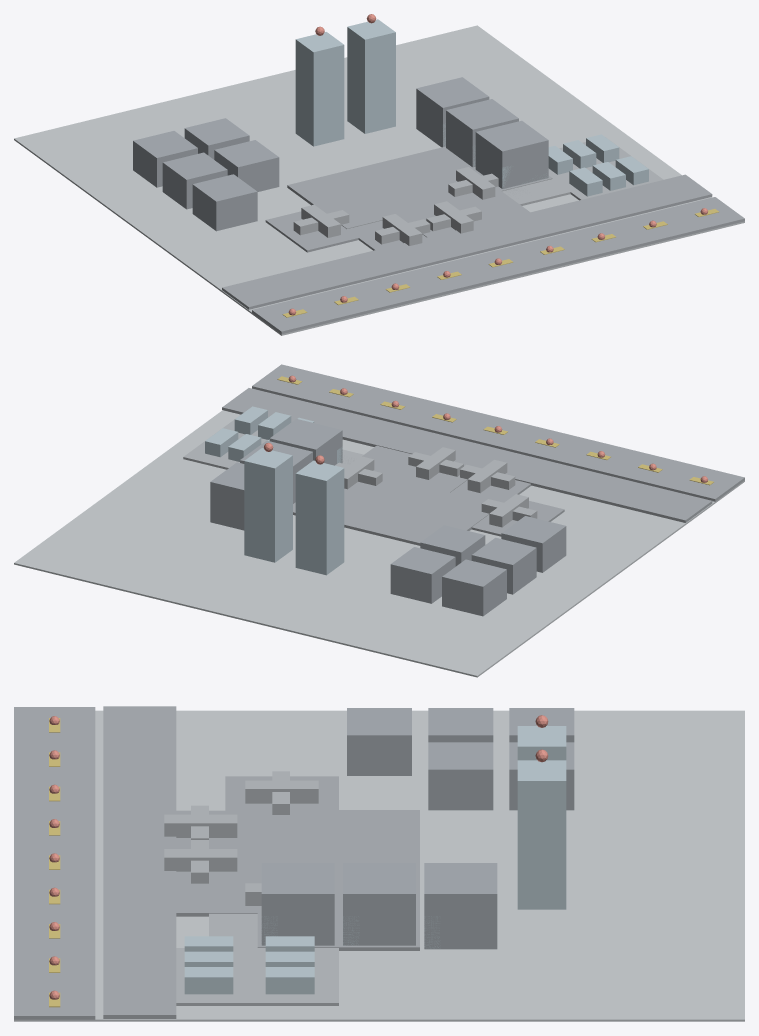
Rendered from stage_22.glb.
3 renders of one model, top to bottom at view 1: azimuth 30°, elevation 25°; view 2: azimuth 150°, elevation 25°; view 3: azimuth 270°, elevation 25°, orthographic. The views are drawn at different scales.
Parts seen in each view (by area): view 1: geometry_0; view 2: geometry_0; view 3: geometry_0.
Boxes of the visible parts, x1=… form: geometry_0: x1=14, y1=14, x2=744, y2=335; geometry_0: x1=14, y1=364, x2=744, y2=677; geometry_0: x1=14, y1=706, x2=744, y2=1021.
Bounding box in the file's own units: 9 × 2.06 × 9.
